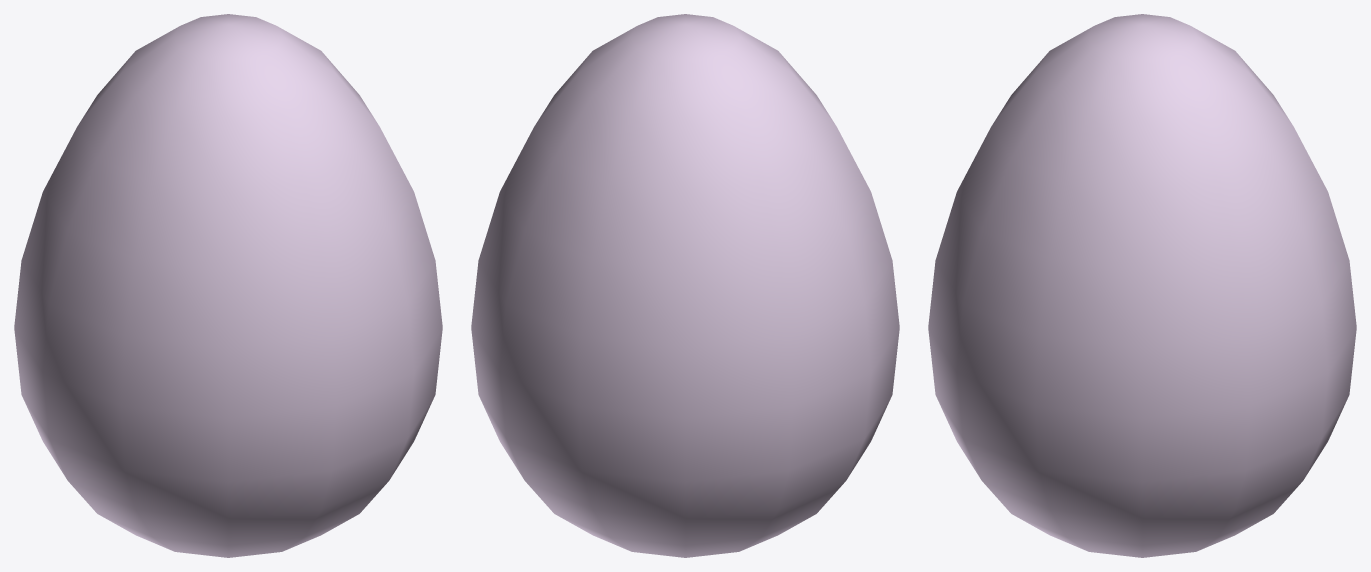
The model's file is CheckpointEgg.fbx.
The picture shows the model from 3 angles, left to right: view 1: azimuth 30°, elevation 25°; view 2: azimuth 150°, elevation 25°; view 3: azimuth 270°, elevation 25°; orthographic projection.
Parts seen in each view (by area): view 1: Sphere.005; view 2: Sphere.005; view 3: Sphere.005.
Boxes of the visible parts, <box> form: Sphere.005: <box>14,14,442,557</box>; Sphere.005: <box>471,14,899,557</box>; Sphere.005: <box>928,14,1356,557</box>.
Bounding box in the file's own units: 14 × 18.53 × 14.
